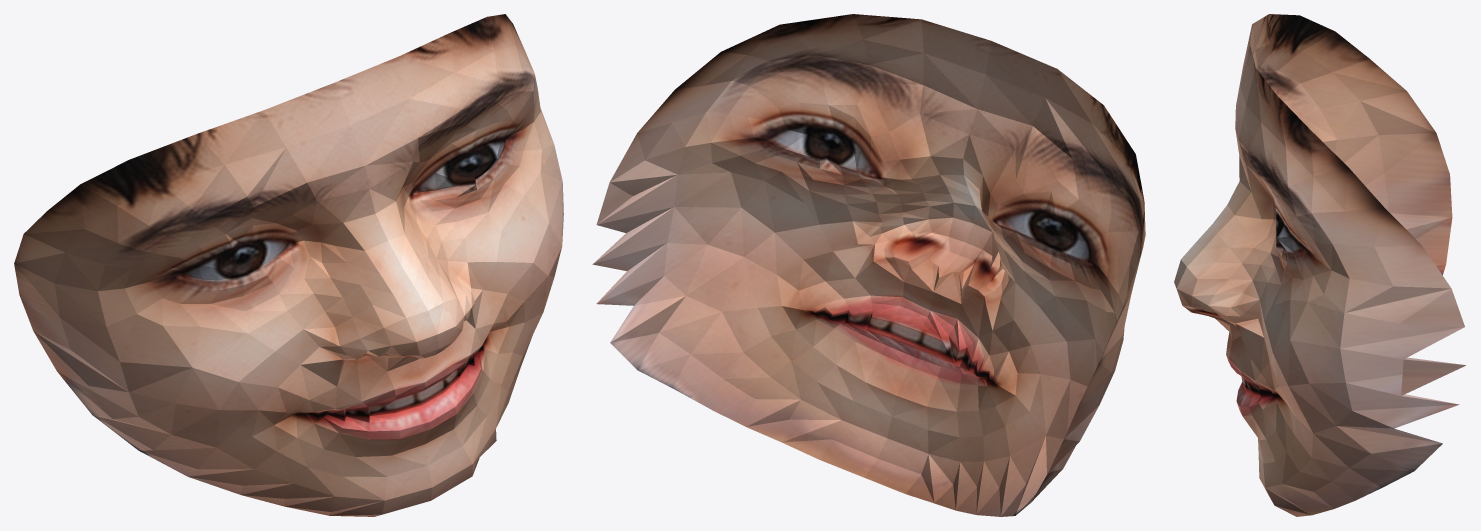
Rendered from adam_face_surface.glb.
3 views of the same model, side by side, from view 1: azimuth 30°, elevation 25°; view 2: azimuth 150°, elevation 25°; view 3: azimuth 270°, elevation 25° (orthographic). The views are drawn at different scales.
Parts seen in each view (by area): view 1: geometry_0; view 2: geometry_0; view 3: geometry_0.
Part boxes in pixels (box(x1,y1,x2,y2)): geometry_0: box(14, 14, 563, 516); geometry_0: box(592, 14, 1145, 516); geometry_0: box(1174, 14, 1465, 516).
Size of the model in its own units: 0.0965 by 0.0849 by 0.0529.
1 material, 1 textured.
